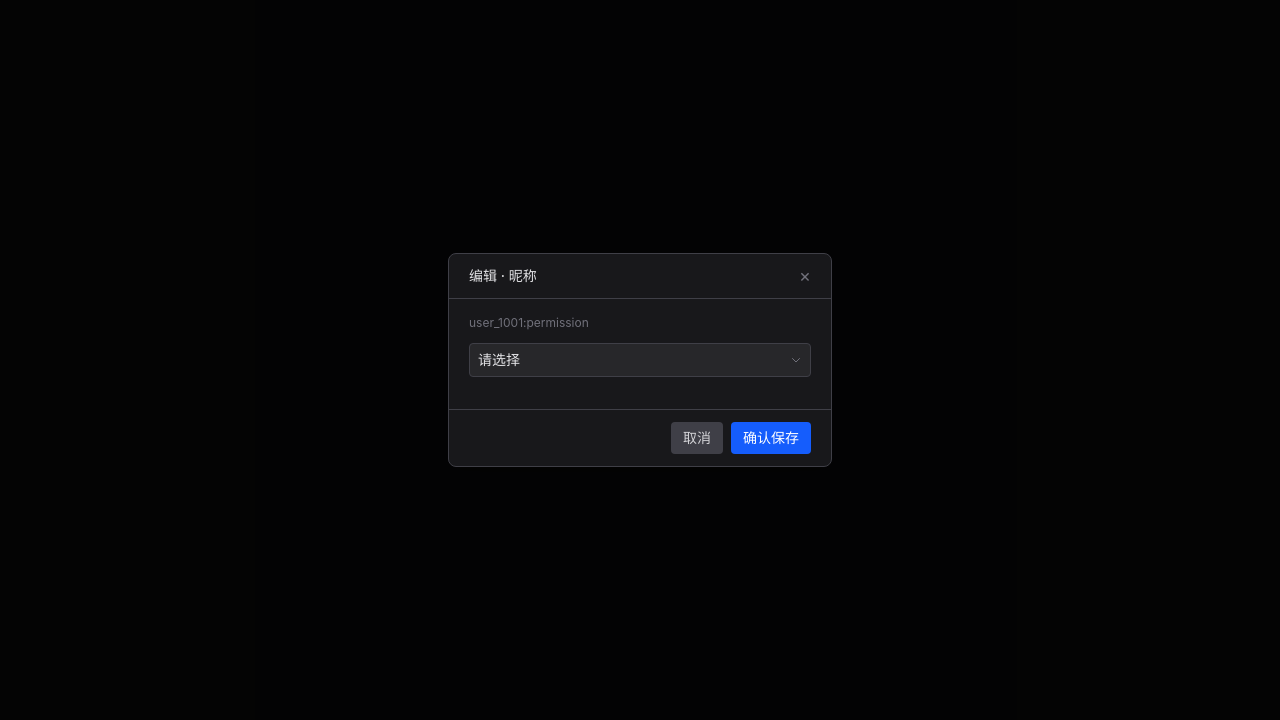
Scenario: PersistentEditDialog - 保存状态 › enum 类型显示 dynamicFieldEnums 提供的选项
// 点击 Dropdown 按钮展开
Click the dropdown "请选择": (499, 360) [469,343,811,377]
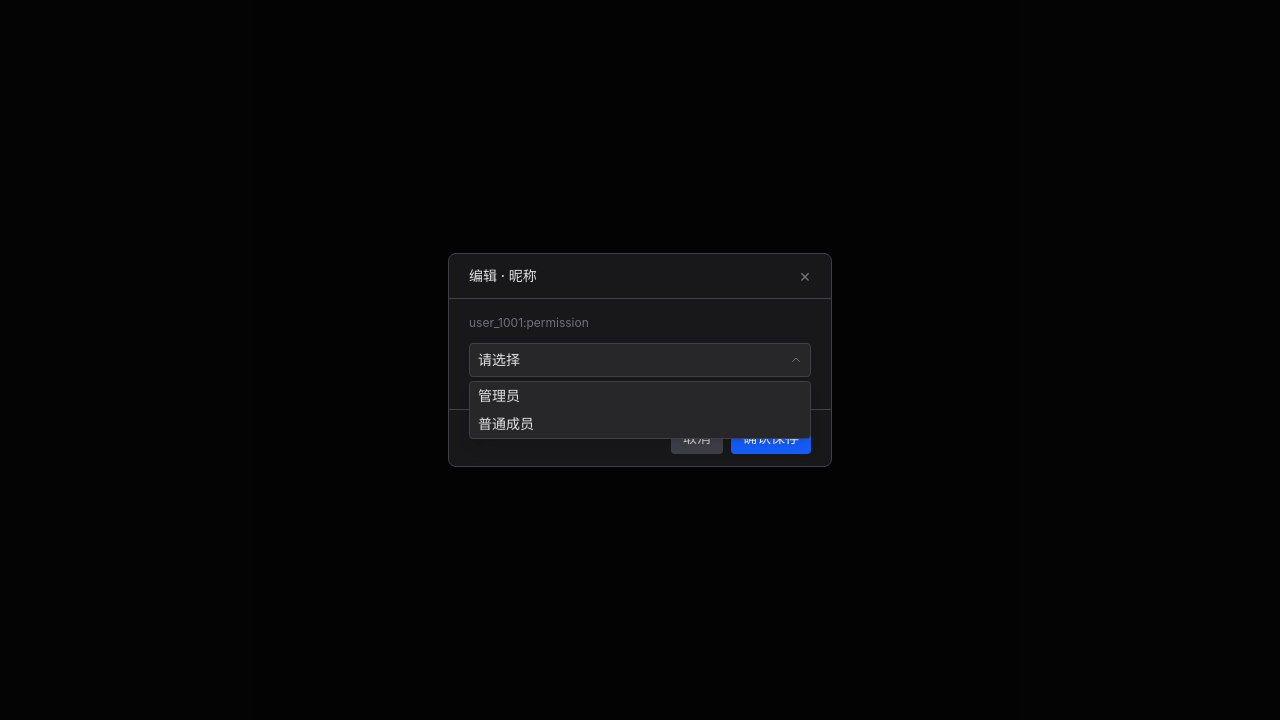
Now the option "管理员" is shown, box [470,382,810,410]
Now the option "普通成员" is shown, box [470,410,810,438]
